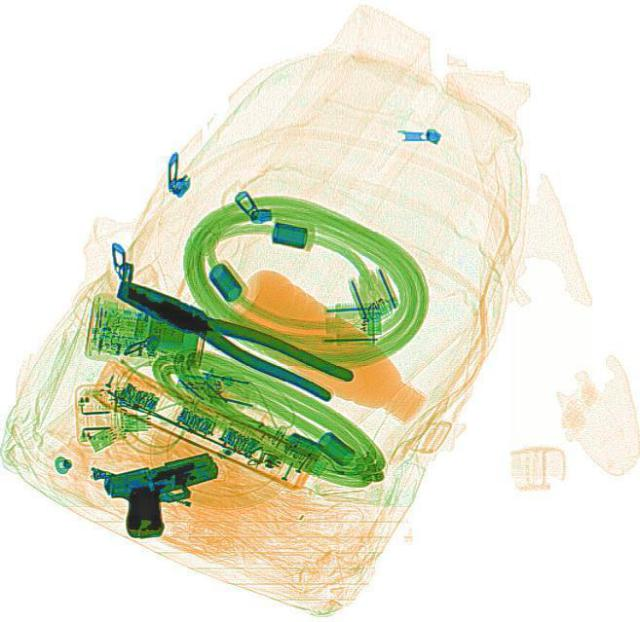Gun: (100, 446, 232, 541)
Pliers: (105, 266, 353, 402)
